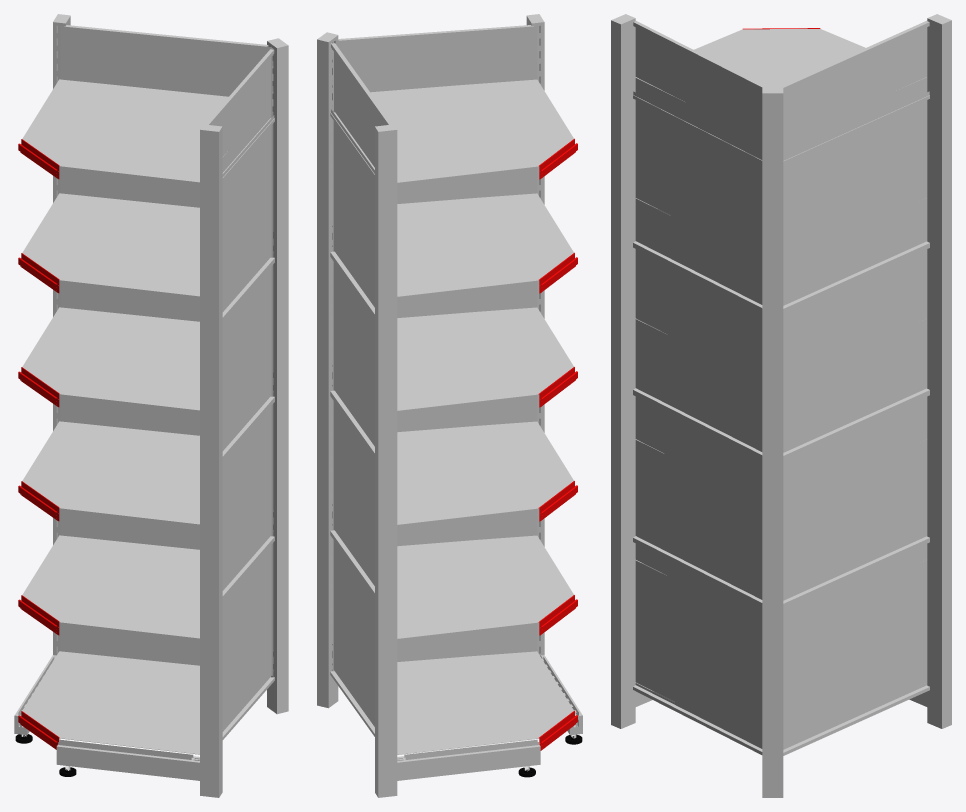
File: Croner_rack_8a46ed65.glb
3 renders of one model, left to right at view 1: azimuth 30°, elevation 25°; view 2: azimuth 150°, elevation 25°; view 3: azimuth 270°, elevation 25°, orthographic. The views are drawn at different scales.
Visible parts, largest first — view 1: 3DGeom-29, 3DGeom-15, 3DGeom-5, 3DGeom-31, 3DGeom-13, 3DGeom-6, 3DGeom-14, 3DGeom-21, 3DGeom-32, 3DGeom-4, 3DGeom-25, 3DGeom-24 (+13 smaller); view 2: 3DGeom-2, 3DGeom-15, 3DGeom-5, 3DGeom-6, 3DGeom-14, 3DGeom-31, 3DGeom-13, 3DGeom-21, 3DGeom-3, 3DGeom-4, 3DGeom-23, 3DGeom-9 (+13 smaller); view 3: 3DGeom-23, 3DGeom-22, 3DGeom-9, 3DGeom-26, 3DGeom-4, 3DGeom-24, 3DGeom-25, 3DGeom-12, 3DGeom-2, 3DGeom-29, 3DGeom-21, 3DGeom-32 (+2 smaller).
Part boxes in pixels (x1,y1,x2,y2): 3DGeom-29: [56, 124, 222, 797]; 3DGeom-15: [22, 79, 229, 182]; 3DGeom-5: [22, 421, 199, 524]; 3DGeom-31: [22, 535, 199, 638]; 3DGeom-13: [22, 651, 199, 754]; 3DGeom-6: [22, 193, 199, 296]; 3DGeom-14: [22, 307, 199, 410]; 3DGeom-21: [267, 38, 288, 714]; 3DGeom-32: [60, 25, 271, 96]; 3DGeom-4: [222, 535, 274, 739]; 3DGeom-25: [222, 395, 274, 600]; 3DGeom-24: [222, 257, 274, 461]; 3DGeom-2: [375, 124, 540, 797]; 3DGeom-15: [370, 79, 573, 182]; 3DGeom-5: [397, 421, 573, 524]; 3DGeom-6: [397, 193, 573, 296]; 3DGeom-14: [397, 307, 573, 410]; 3DGeom-31: [397, 535, 573, 639]; 3DGeom-13: [397, 651, 573, 754]; 3DGeom-21: [317, 32, 338, 708]; 3DGeom-3: [335, 25, 537, 92]; 3DGeom-4: [397, 513, 537, 661]; 3DGeom-23: [330, 530, 374, 736]; 3DGeom-9: [330, 251, 374, 457]; 3DGeom-23: [783, 536, 929, 755]; 3DGeom-22: [783, 388, 929, 607]; 3DGeom-9: [783, 241, 929, 460]; 3DGeom-26: [783, 95, 929, 313]; 3DGeom-4: [633, 536, 762, 754]; 3DGeom-24: [633, 241, 762, 459]; 3DGeom-25: [633, 388, 762, 607]; 3DGeom-12: [633, 95, 762, 312]; 3DGeom-2: [909, 14, 951, 728]; 3DGeom-29: [611, 14, 652, 728]; 3DGeom-21: [762, 87, 783, 797]; 3DGeom-32: [779, 20, 929, 160].
Bounding box in the file's own units: 0.8259 × 2.16 × 0.9451.
